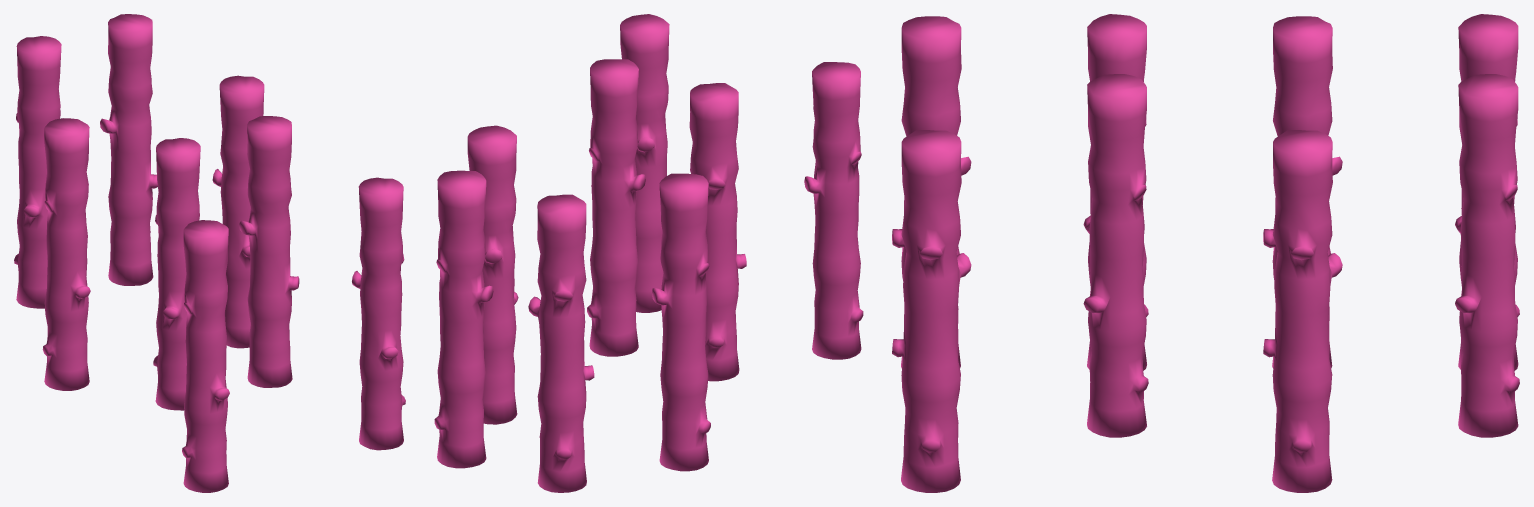
Rendered from tron_rallonge.fbx.
The picture shows the model from 3 angles, left to right: view 1: azimuth 30°, elevation 25°; view 2: azimuth 150°, elevation 25°; view 3: azimuth 270°, elevation 25°; orthographic projection. The views are drawn at different scales.
Visible parts, largest first — view 1: tronc_moyen_low.006; view 2: tronc_moyen_low.006; view 3: tronc_moyen_low.006.
Part boxes in pixels (bbox=[...]): tronc_moyen_low.006: bbox=[14, 14, 405, 492]; tronc_moyen_low.006: bbox=[434, 14, 863, 492]; tronc_moyen_low.006: bbox=[892, 14, 1519, 492].
Bounding box in the file's own units: 5.65 × 3.01 × 3.65.
